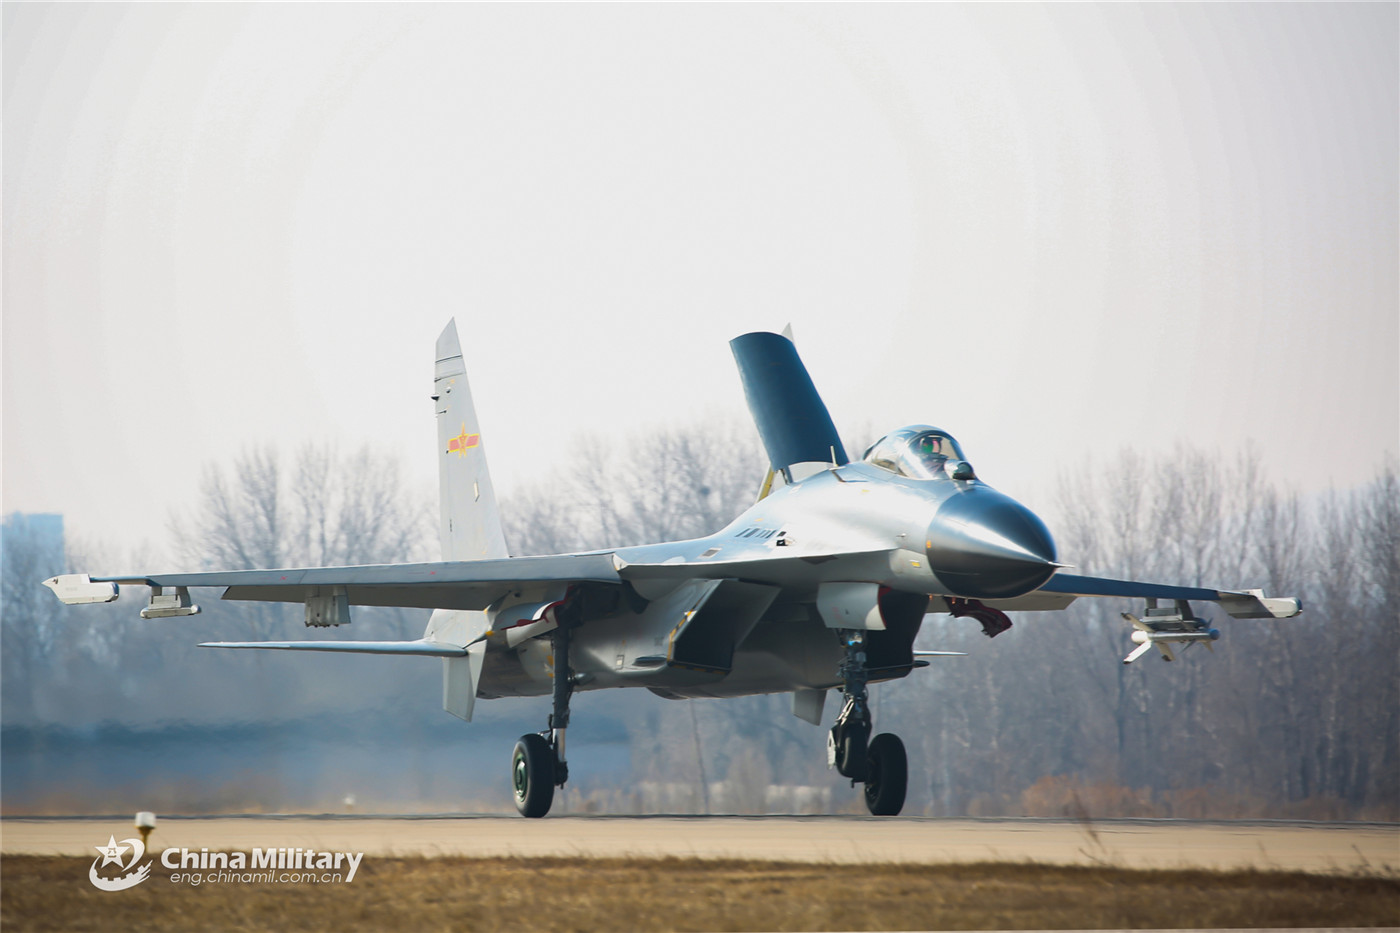airplane: (39, 317, 1312, 811)
